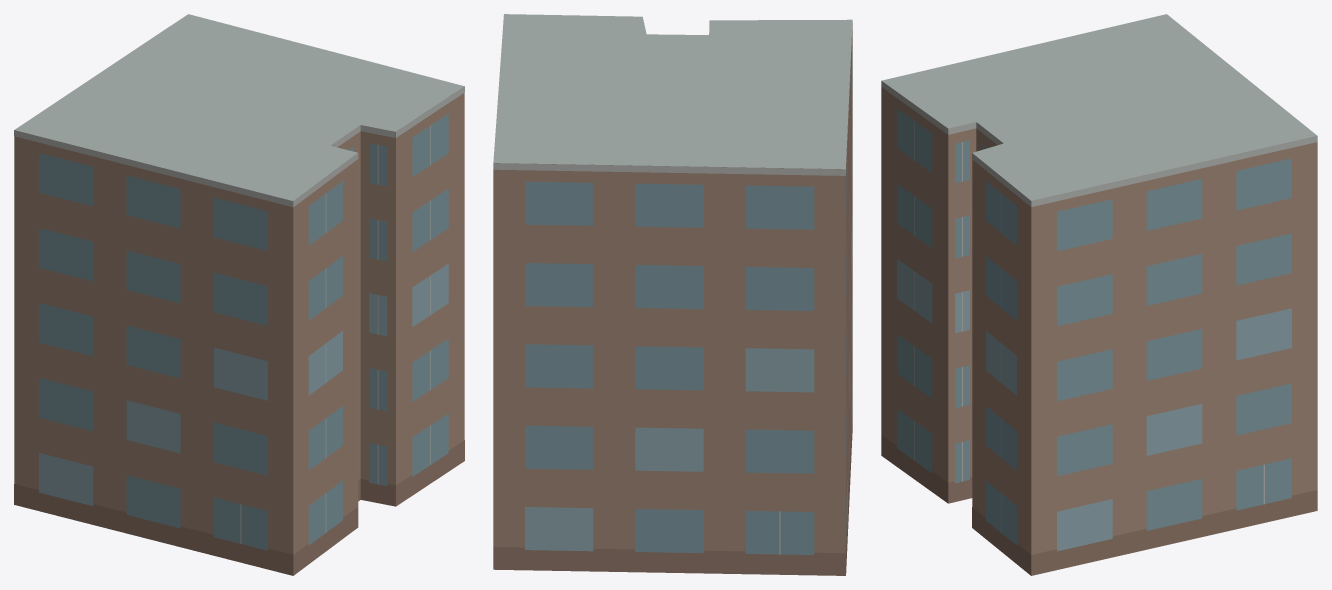
The model's file is survey-upis-32942989.glb.
The picture shows the model from 3 angles, left to right: view 1: azimuth 30°, elevation 25°; view 2: azimuth 150°, elevation 25°; view 3: azimuth 270°, elevation 25°; orthographic projection. The views are drawn at different scales.
Visible parts, largest first — view 1: survey-upis-32942989.tmp; view 2: survey-upis-32942989.tmp; view 3: survey-upis-32942989.tmp.
Boxes of the visible parts, box(x1,y1,x2,y2) form: survey-upis-32942989.tmp: box(14, 14, 464, 575); survey-upis-32942989.tmp: box(493, 14, 852, 575); survey-upis-32942989.tmp: box(881, 14, 1317, 575).
Bounding box in the file's own units: 15.78 × 14.75 × 15.56.
